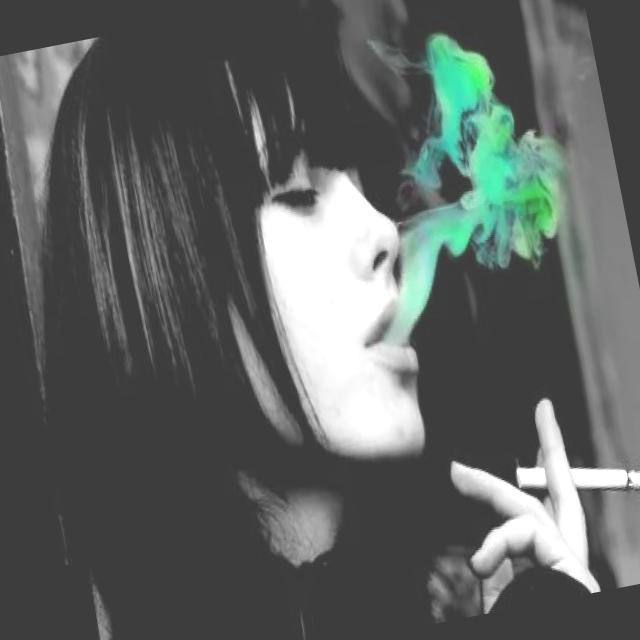smoke: (511, 439, 640, 528)
